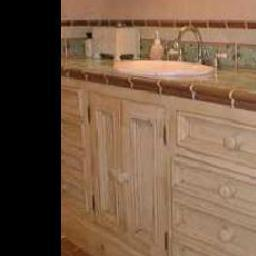Lavaplatos: (114, 32, 227, 82)
